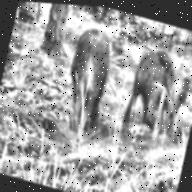boar: (51, 15, 126, 146), (118, 29, 192, 153)
